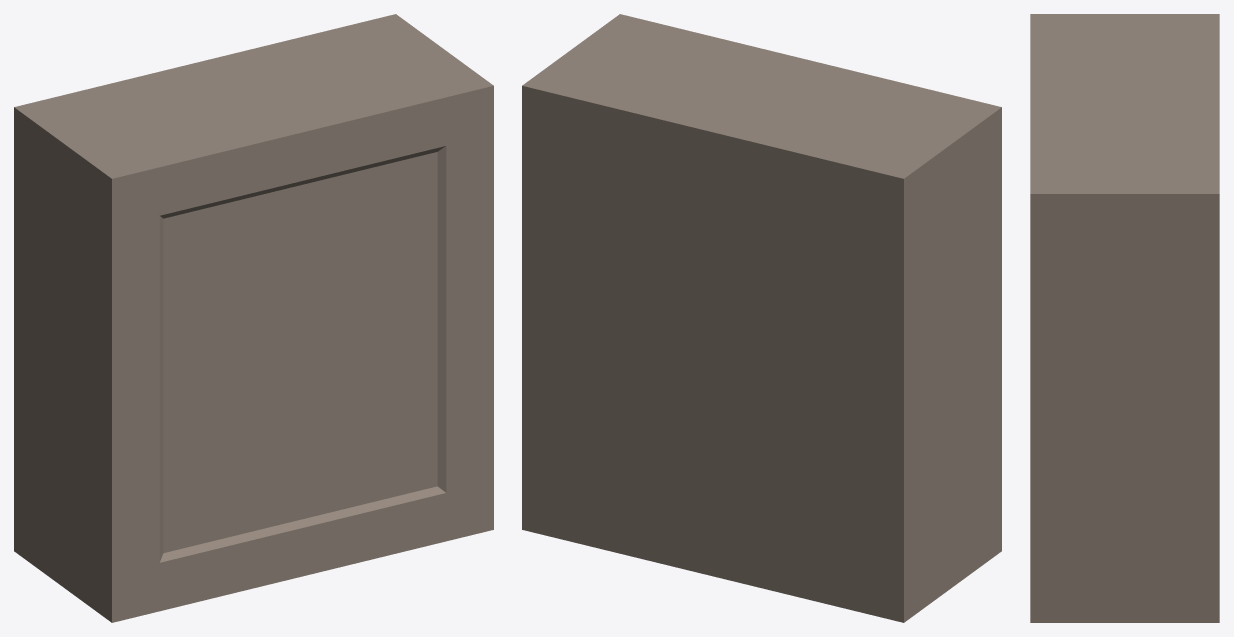
The model's file is Wall-Cabinet-Single-Door-with-Shelves_std_001_W27in.glb.
3 views of the same model, side by side, from view 1: azimuth 30°, elevation 25°; view 2: azimuth 150°, elevation 25°; view 3: azimuth 270°, elevation 25° (orthographic). The views are drawn at different scales.
Visible parts, largest first — view 1: Wall-Cabinet-Single-Door-with-Shelves.std.001_W27in; view 2: Wall-Cabinet-Single-Door-with-Shelves.std.001_W27in; view 3: Wall-Cabinet-Single-Door-with-Shelves.std.001_W27in.
Boxes of the visible parts, left/top/right/bottom form: Wall-Cabinet-Single-Door-with-Shelves.std.001_W27in: left=14, top=14, right=493, bottom=622; Wall-Cabinet-Single-Door-with-Shelves.std.001_W27in: left=522, top=14, right=1001, bottom=622; Wall-Cabinet-Single-Door-with-Shelves.std.001_W27in: left=1030, top=14, right=1219, bottom=622.
Size of the model in its own units: 0.6858 by 0.762 by 0.3048.
